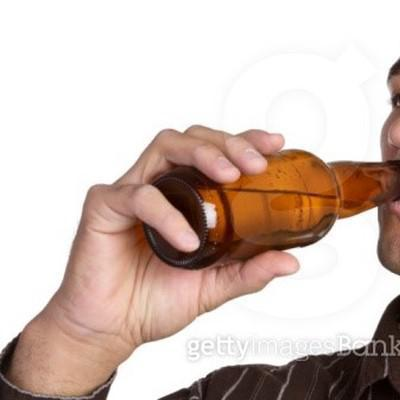beer: (143, 146, 400, 270)
